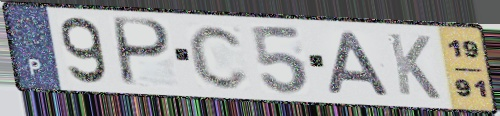5: (248, 24, 312, 96)
9: (58, 16, 109, 86)
A: (323, 29, 395, 98)
C: (186, 22, 252, 92)
K: (385, 30, 444, 102)
P: (113, 15, 175, 90)
